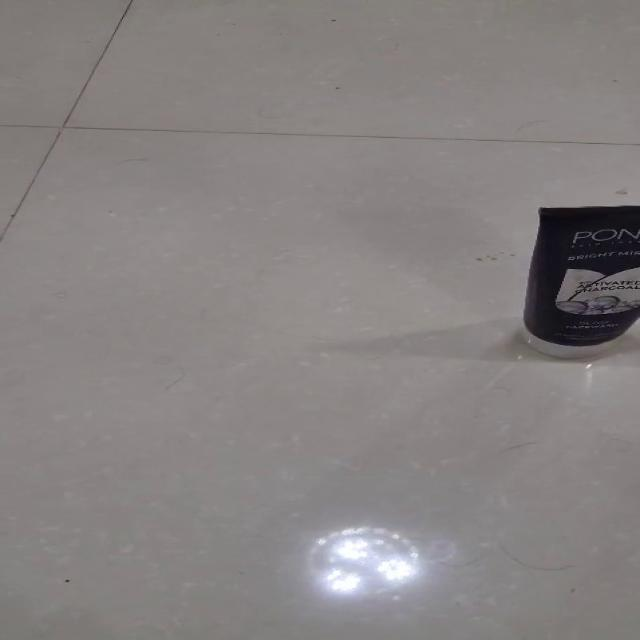plastic: (520, 204, 638, 357)
